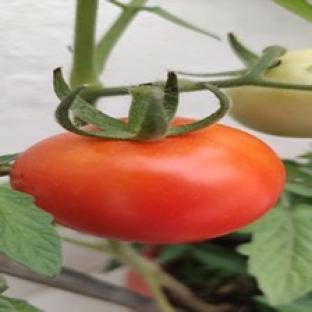Tomato: (10, 124, 284, 243), (228, 87, 311, 137)
